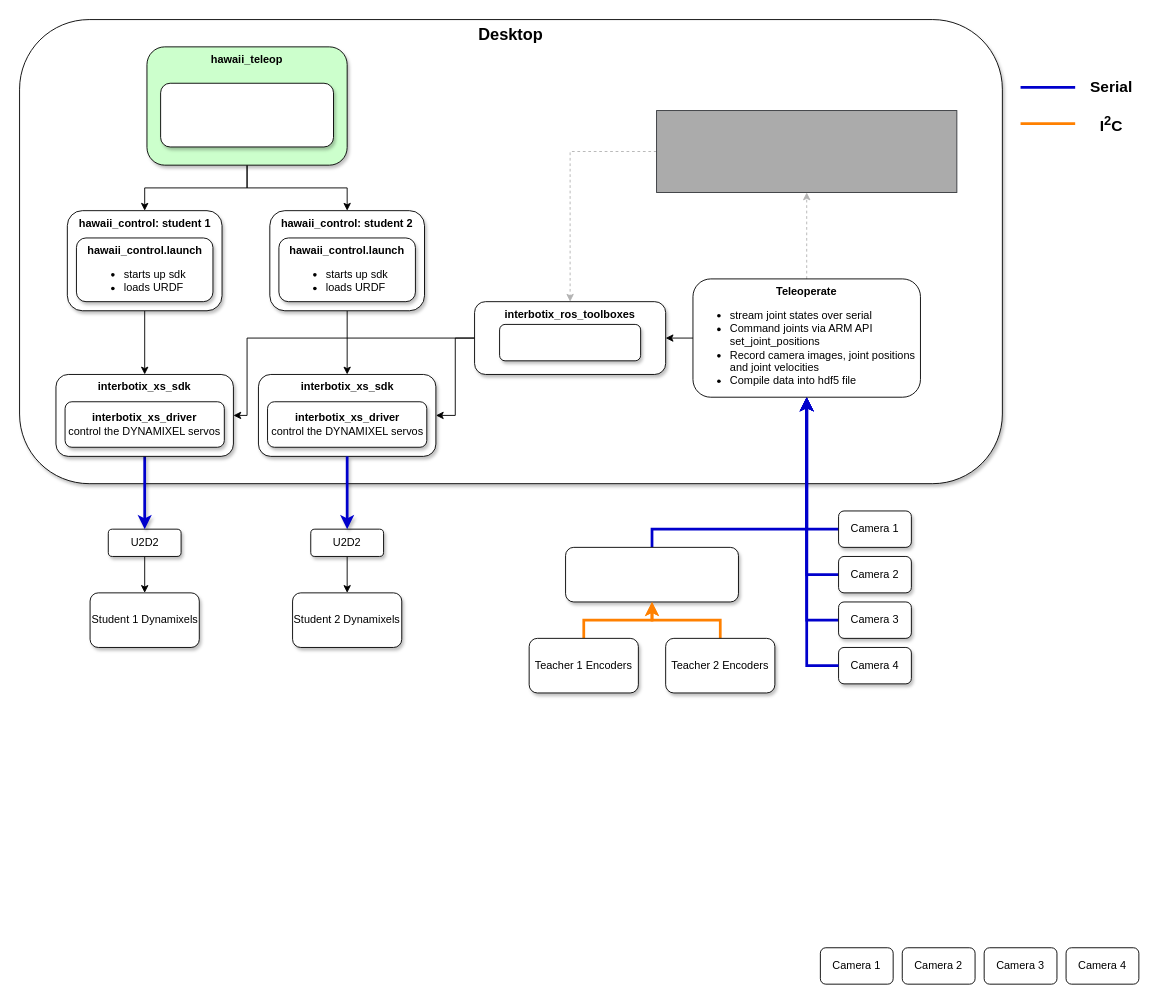
This 1155x1000 diagram has some shape labels left out. Here are the shapes that lost their labels. From the top down, the centre of each, then its label:
At point 247,116: "hawaii_teleop.launch starts communication with 2 arms and 4 cameras".
At point 806,151: "ACT Training injest hdf5 file and use to train model".
At point 570,343: "interbotix_xs_modules ARM api".
At point 652,575: "Honolulu Board Gets teacher joint states".
